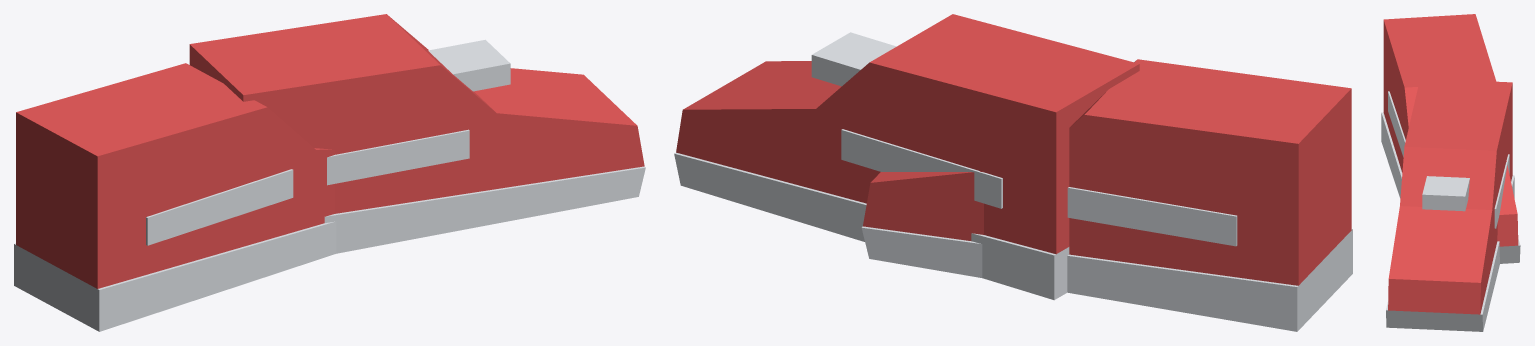
File: sneakers.glb
3 views of the same model, side by side, from view 1: azimuth 30°, elevation 25°; view 2: azimuth 150°, elevation 25°; view 3: azimuth 270°, elevation 25° (orthographic). The views are drawn at different scales.
Visible parts, largest first — view 1: sneakers; view 2: sneakers; view 3: sneakers.
Boxes of the visible parts, <box> form: sneakers: <box>14,14,645,331</box>; sneakers: <box>674,14,1352,331</box>; sneakers: <box>1381,14,1520,331</box>.
Bounding box in the file's own units: 0.4338 × 0.125 × 0.1288.
